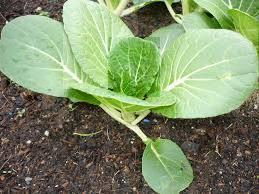Healthy-Pechay: (17, 7, 259, 120)
